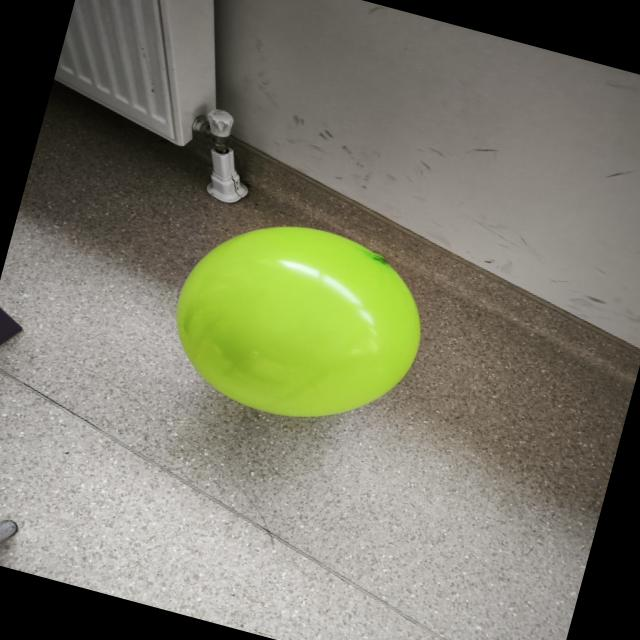balloon: (177, 227, 420, 416)
